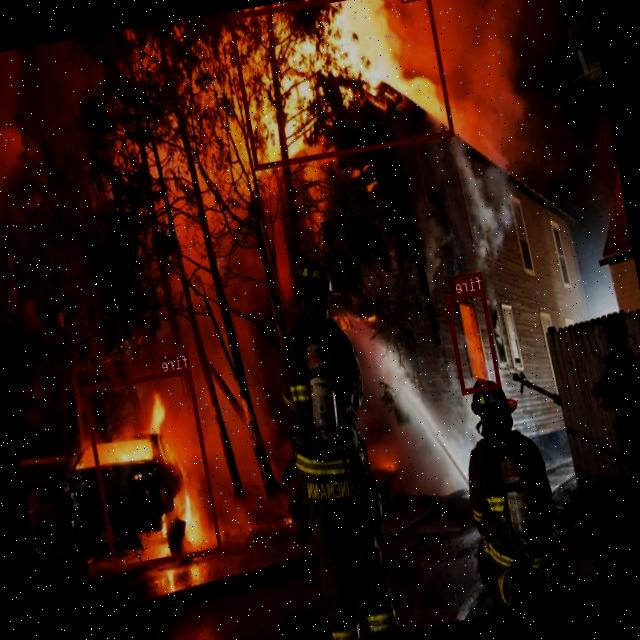fire: (229, 0, 454, 169), (82, 367, 223, 570), (446, 288, 502, 393)
